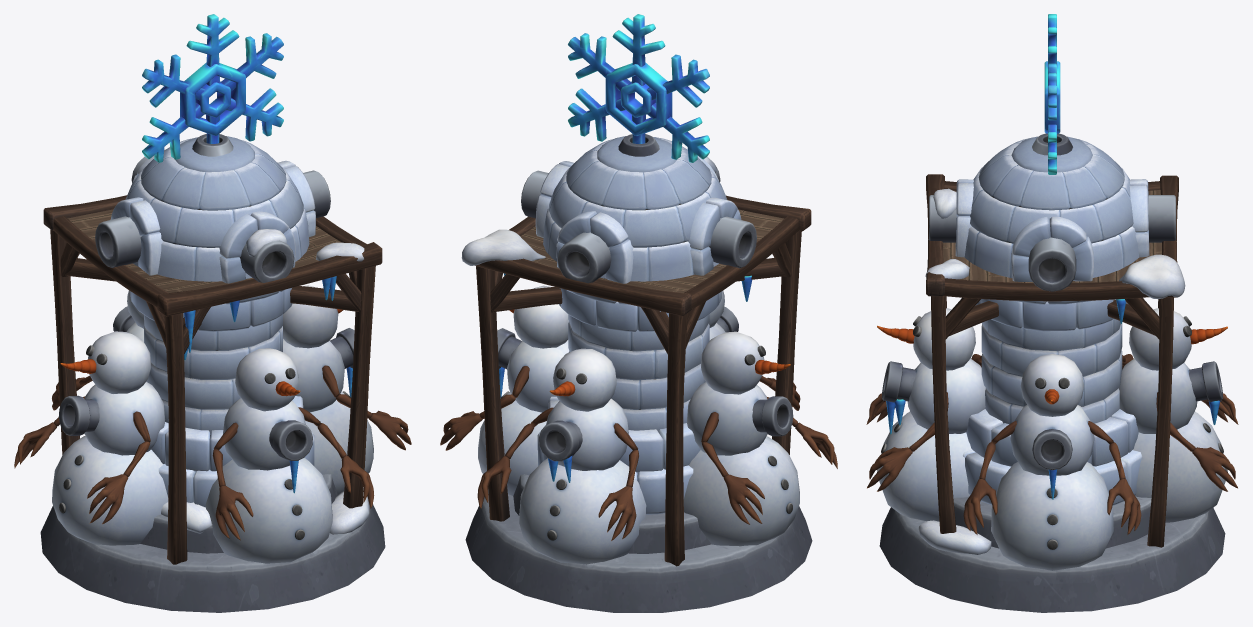
The model's file is SM_TowerDefense_Ice_Lv4.fbx.
The picture shows the model from 3 angles, left to right: view 1: azimuth 30°, elevation 25°; view 2: azimuth 150°, elevation 25°; view 3: azimuth 270°, elevation 25°; orthographic projection.
Visible parts, largest first — view 1: SM_TowerDefense_Ice_Lv4; view 2: SM_TowerDefense_Ice_Lv4; view 3: SM_TowerDefense_Ice_Lv4.
Part boxes in pixels (bbox=[...]): SM_TowerDefense_Ice_Lv4: bbox=[14, 14, 411, 612]; SM_TowerDefense_Ice_Lv4: bbox=[440, 14, 837, 612]; SM_TowerDefense_Ice_Lv4: bbox=[866, 14, 1238, 612].
Size of the model in its own units: 1221 by 1899 by 1221.
